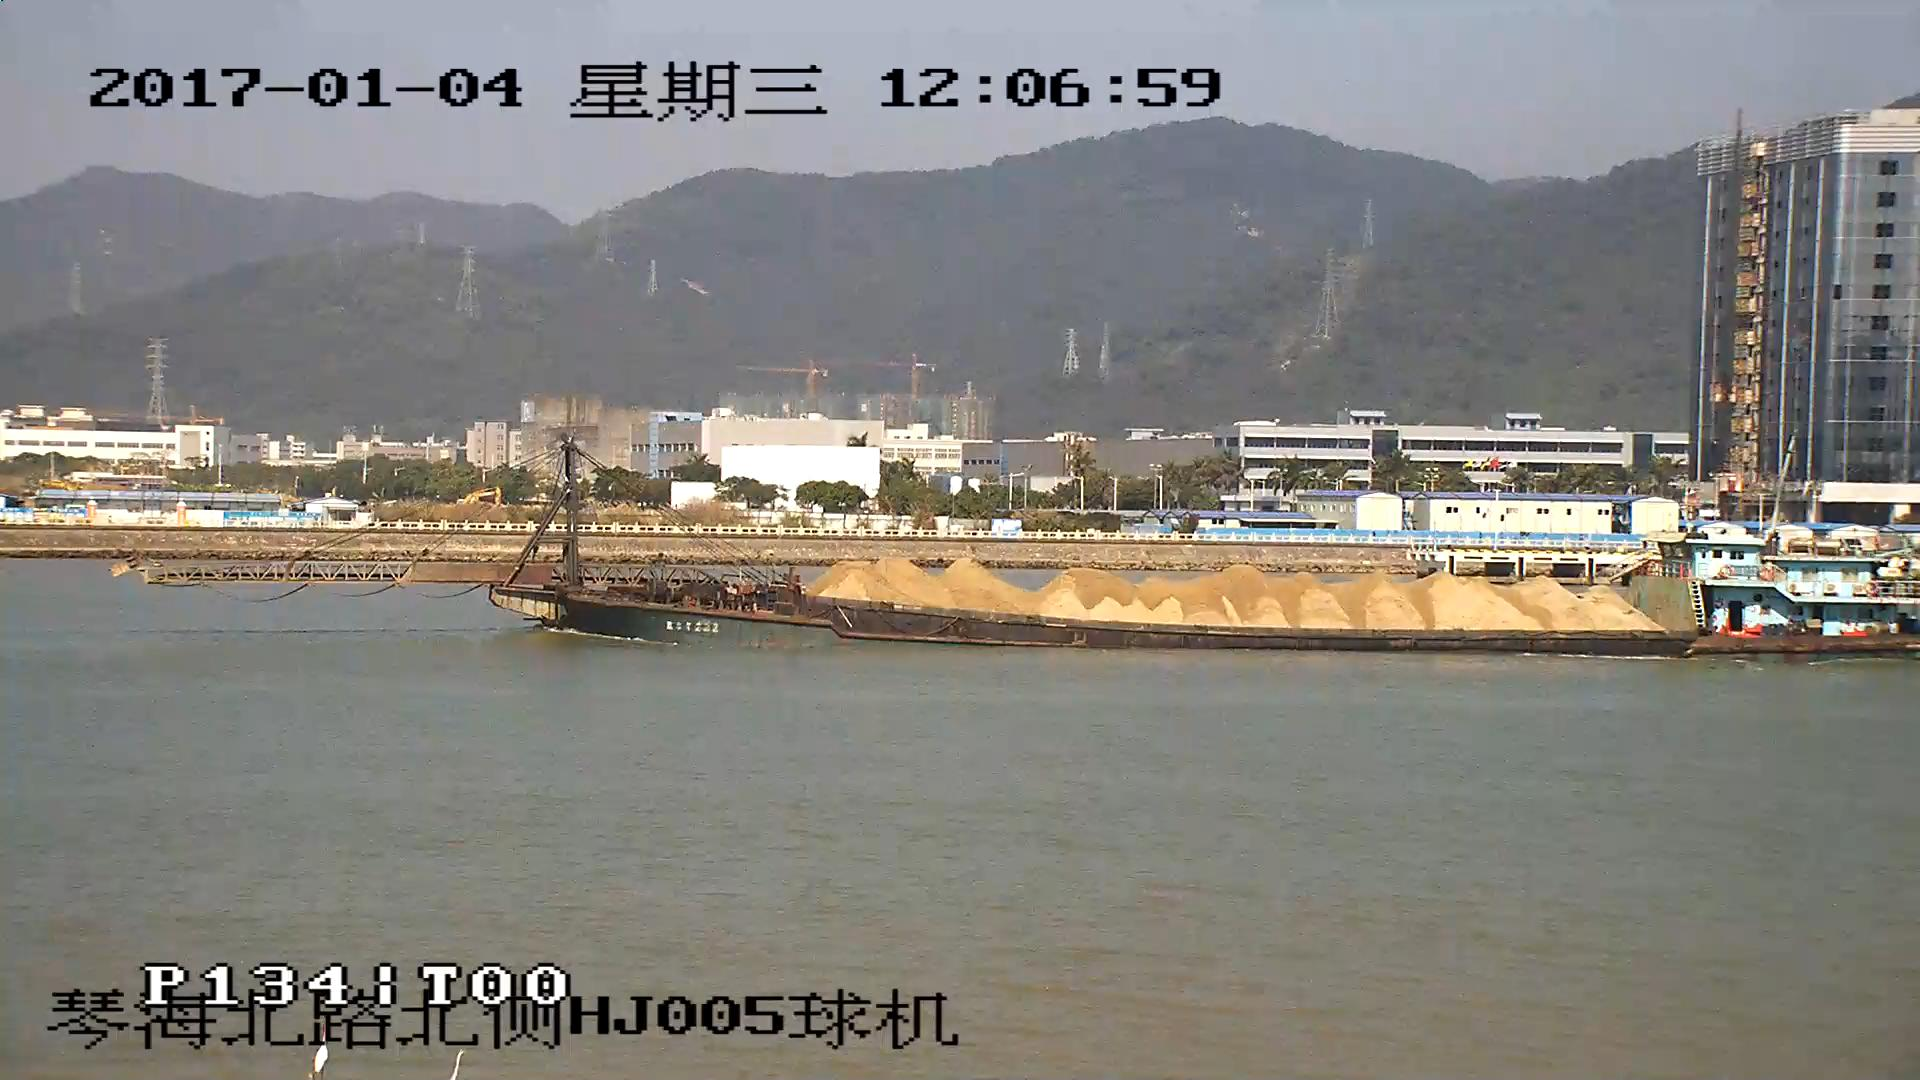ore carrier: (137, 432, 1920, 661)
